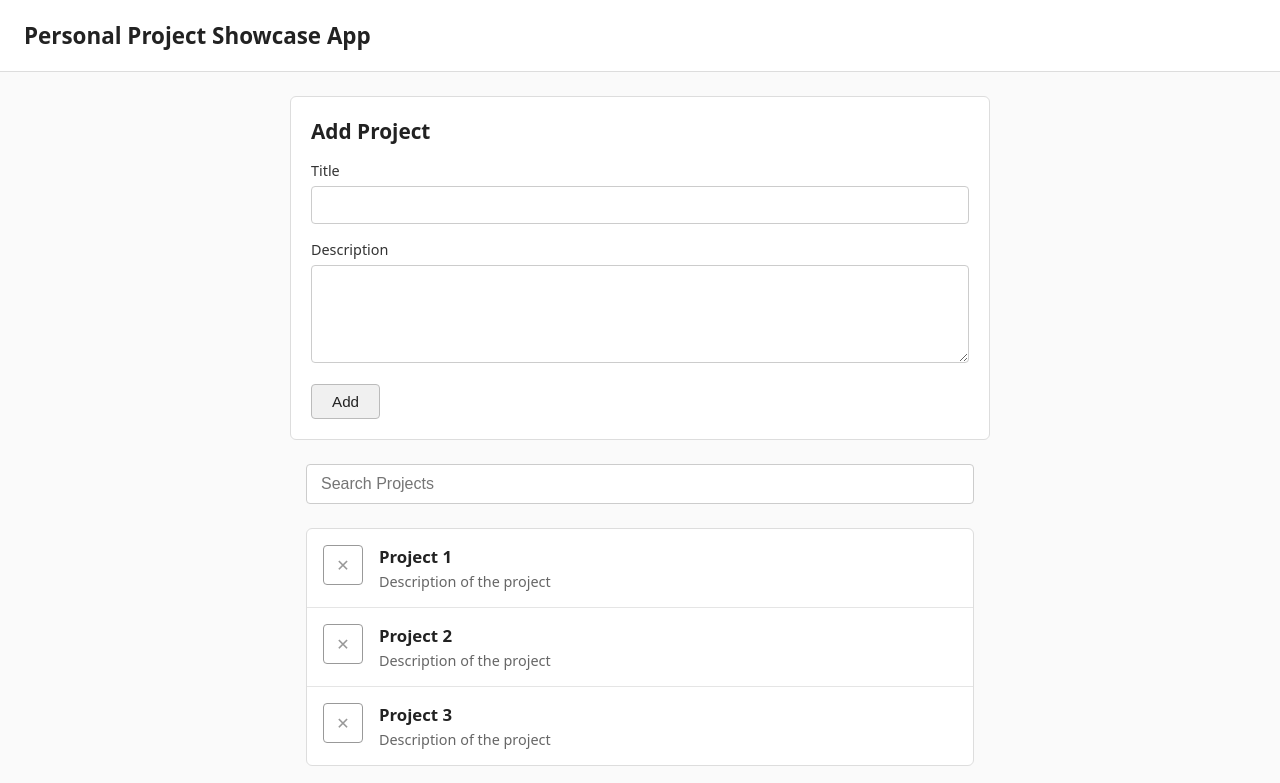
Scenario: adding a new project shows it in the list
Type "My New Project" into the field labelled "Title" at (640, 205), box [311,186,969,224]
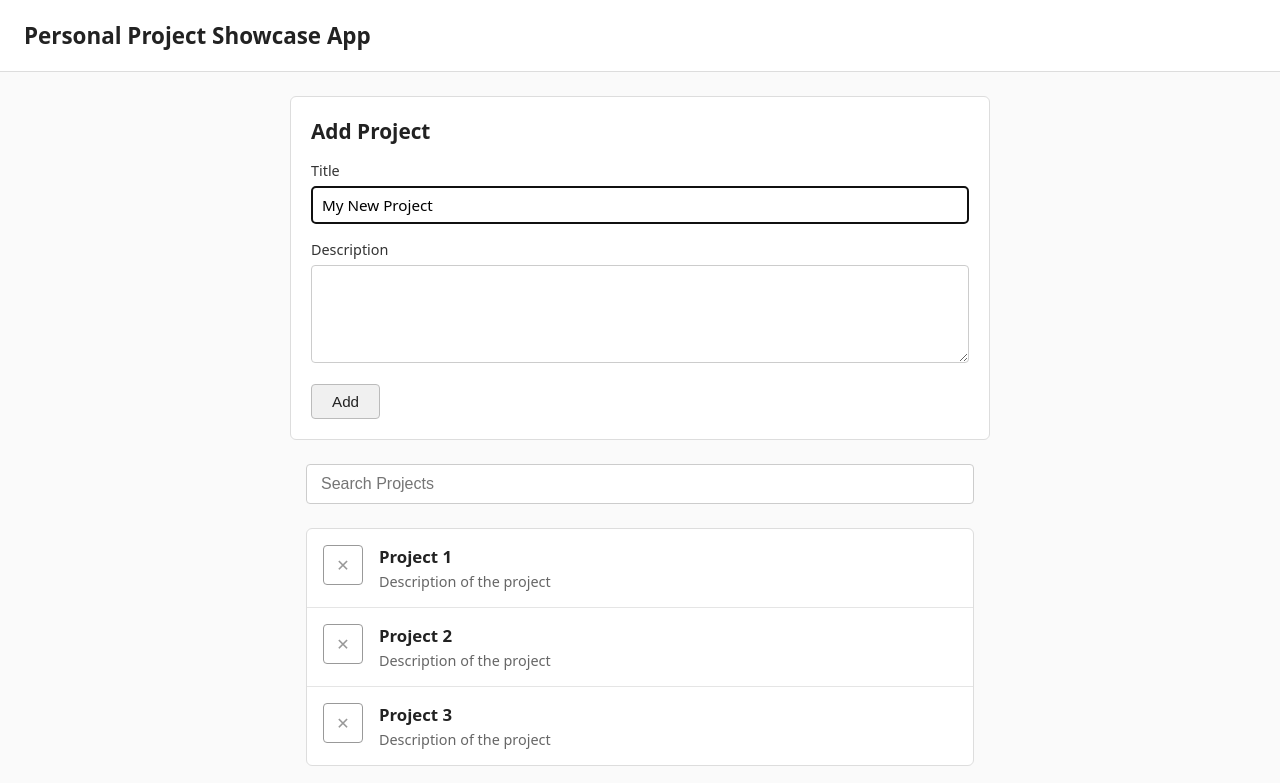
Type "Built during a test" into the text box labelled "Description" at (640, 314), box [311,265,969,363]
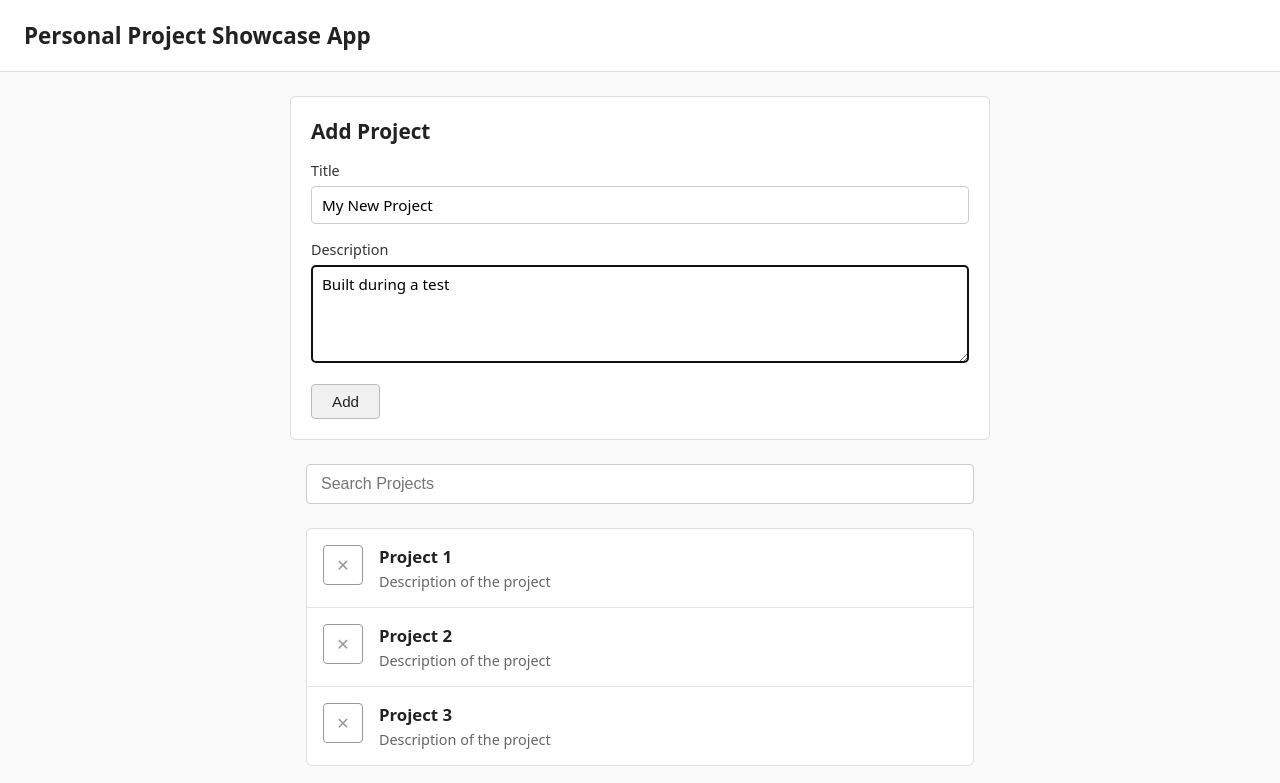
Click the button "Add" at (346, 402), box [311,384,380,419]
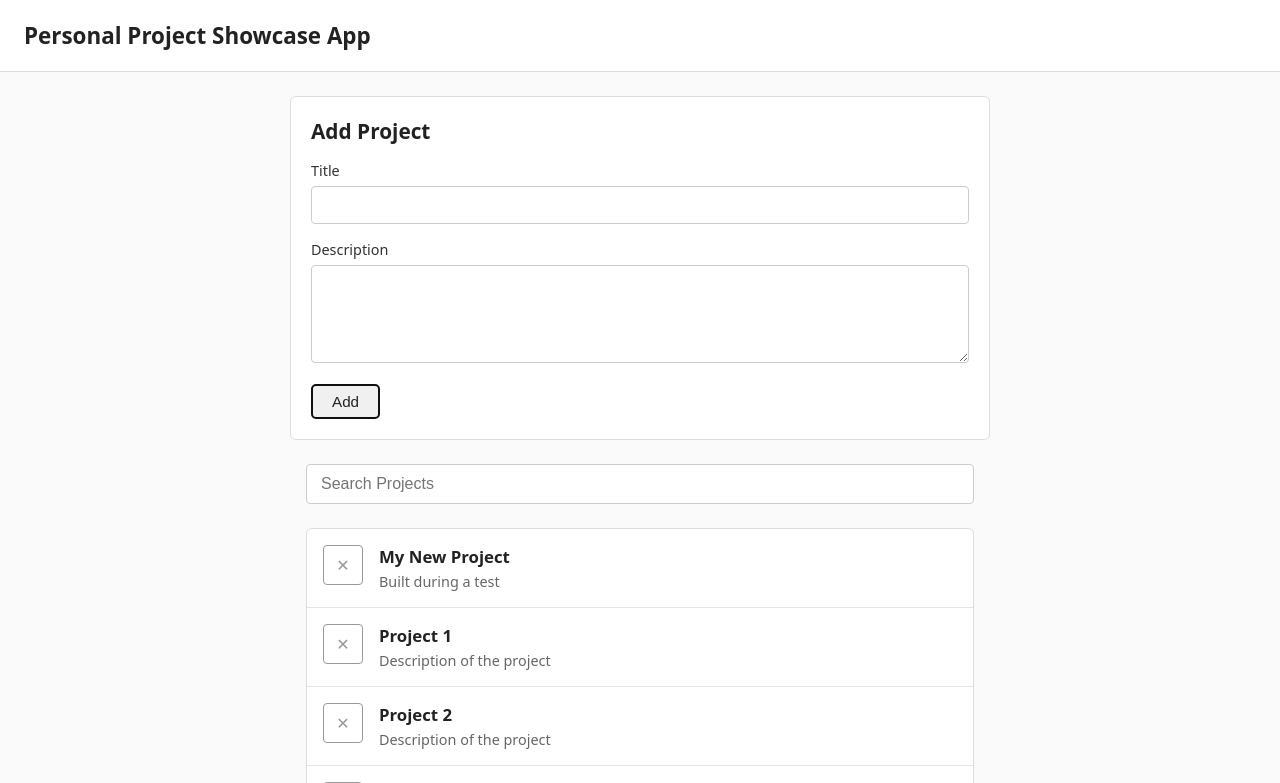
Result: the heading "My New Project" is shown at [379,545,510,568]
